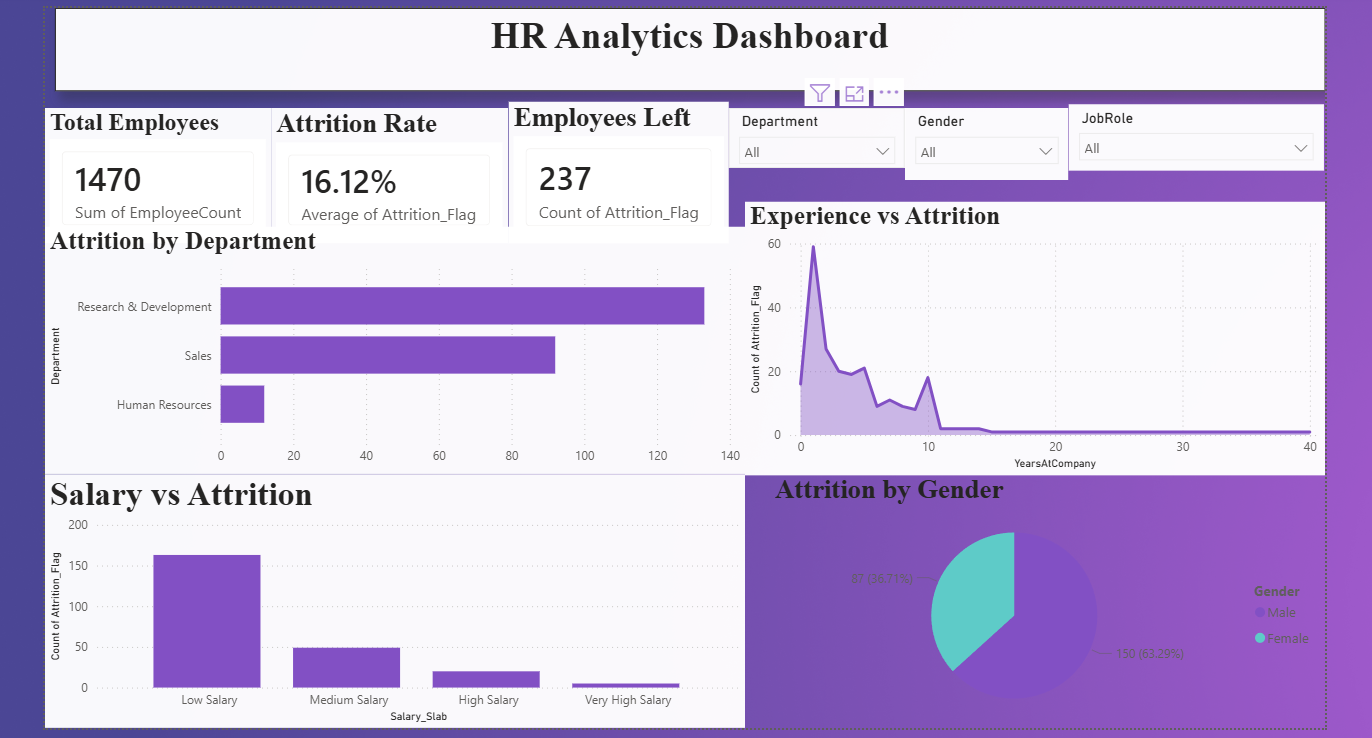

What the dashboard file says about the page in this screenshot:
{"tool":"powerbi","page":{"name":"HR Analytics Dashboard","canvas":[1280,720],"ordinal":0},"visuals":[{"type":"textbox","box":[10,0,1270,83],"z":0},{"type":"cardVisual","title":"Total Employees","fields":{"Data":["Sum(Sheet1.EmployeeCount)","select","select1"]},"box":[0,100,226.7,135],"z":1000},{"type":"cardVisual","title":"Attrition Rate","fields":{"Data":["Avg(Sheet1.Attrition_Flag)"]},"box":[226.7,100,236.7,135],"z":2000},{"type":"clusteredBarChart","title":"Attrition by Department","fields":{"Category":["Sheet1.Department"],"Y":["CountNonNull(Sheet1.Attrition_Flag)"]},"box":[0,219,700,247],"z":3000},{"type":"pieChart","title":"Attrition by Gender","fields":{"Category":["Sheet1.Gender"],"Y":["CountNonNull(Sheet1.Attrition_Flag)"]},"box":[725,466.7,555,253.3],"z":4000},{"type":"cardVisual","title":"Employees Left","fields":{"Data":["CountNonNull(Sheet1.Attrition_Flag)"]},"box":[463.3,93.3,220,141.7],"z":5000},{"type":"clusteredColumnChart","title":"Salary vs Attrition","fields":{"Category":["Sheet1.Salary_Slab"],"Y":["CountNonNull(Sheet1.Attrition_Flag)"]},"box":[0,466.7,700,253.3],"z":6000},{"type":"areaChart","title":"Experience vs Attrition","fields":{"Category":["Sheet1.YearsAtCompany"],"Y":["CountNonNull(Sheet1.Attrition_Flag)"]},"box":[700,193.3,580,273.3],"z":7000},{"type":"slicer","fields":{"Values":["Sheet1.Department"]},"box":[683.3,100,176.7,60],"z":8000},{"type":"slicer","fields":{"Values":["Sheet1.Gender"]},"box":[860,100,163.3,71.7],"z":9000},{"type":"slicer","fields":{"Values":["Sheet1.JobRole"]},"box":[1023.3,96.7,255,66.7],"z":10000}]}

Visuals, with their boxes in screenshot pixels (x1, y1, x2, y2):
textbox: 49, 4, 1336, 88
"Total Employees" cardVisual: 39, 105, 269, 242
"Attrition Rate" cardVisual: 269, 105, 509, 242
"Attrition by Department" clusteredBarChart: 39, 225, 748, 476
"Attrition by Gender" pieChart: 774, 476, 1336, 733
"Employees Left" cardVisual: 509, 98, 731, 242
"Salary vs Attrition" clusteredColumnChart: 39, 476, 748, 733
"Experience vs Attrition" areaChart: 748, 199, 1336, 476
slicer - Sheet1.Department: 731, 105, 910, 166
slicer - Sheet1.Gender: 910, 105, 1076, 178
slicer - Sheet1.JobRole: 1076, 102, 1334, 169
